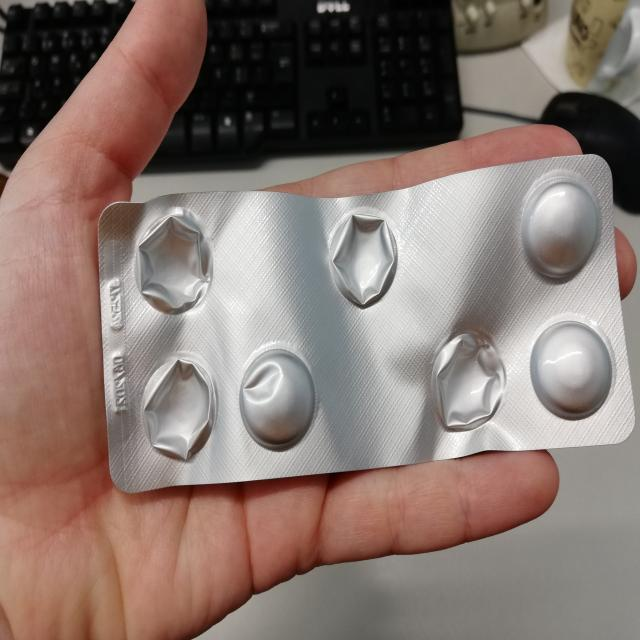Empty: (429, 321, 511, 442), (134, 354, 218, 464), (134, 206, 216, 318), (324, 203, 404, 312)
Pill: (526, 313, 618, 426), (232, 342, 323, 452), (519, 170, 602, 284)
